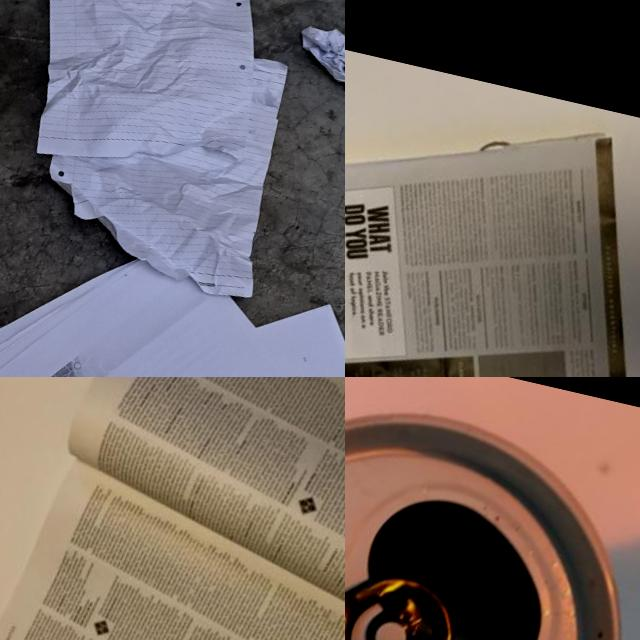aba de lata: (345, 547, 465, 640)
lata: (345, 377, 640, 640)
papel: (0, 0, 330, 302), (345, 54, 640, 377), (0, 377, 345, 640), (0, 209, 345, 377), (290, 9, 345, 100)
